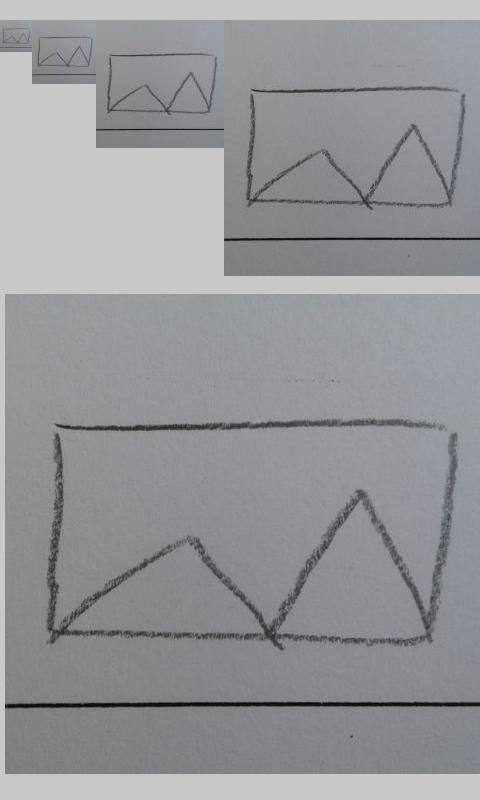image_view: (47, 418, 458, 651), (246, 86, 468, 209), (105, 51, 218, 114), (37, 35, 93, 68), (2, 27, 31, 45)
